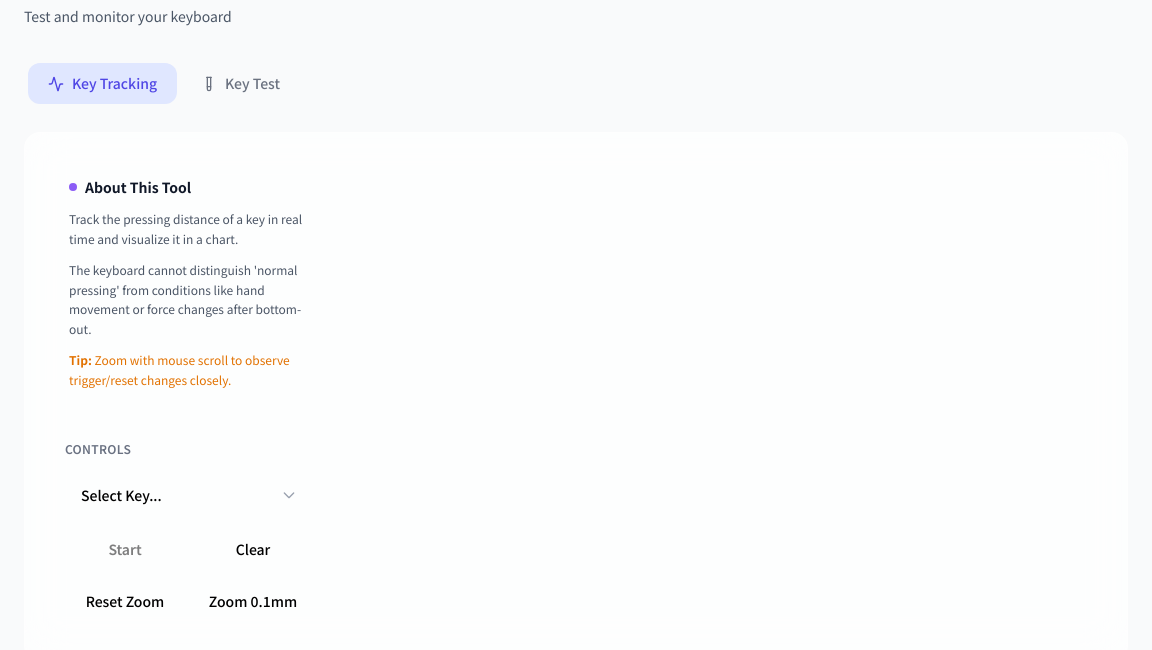
Test: DebugPage › switches between Key Tracking and Key Test
Click the tab "Key Test" at (240, 84), box left=181, top=63, right=300, bottom=104
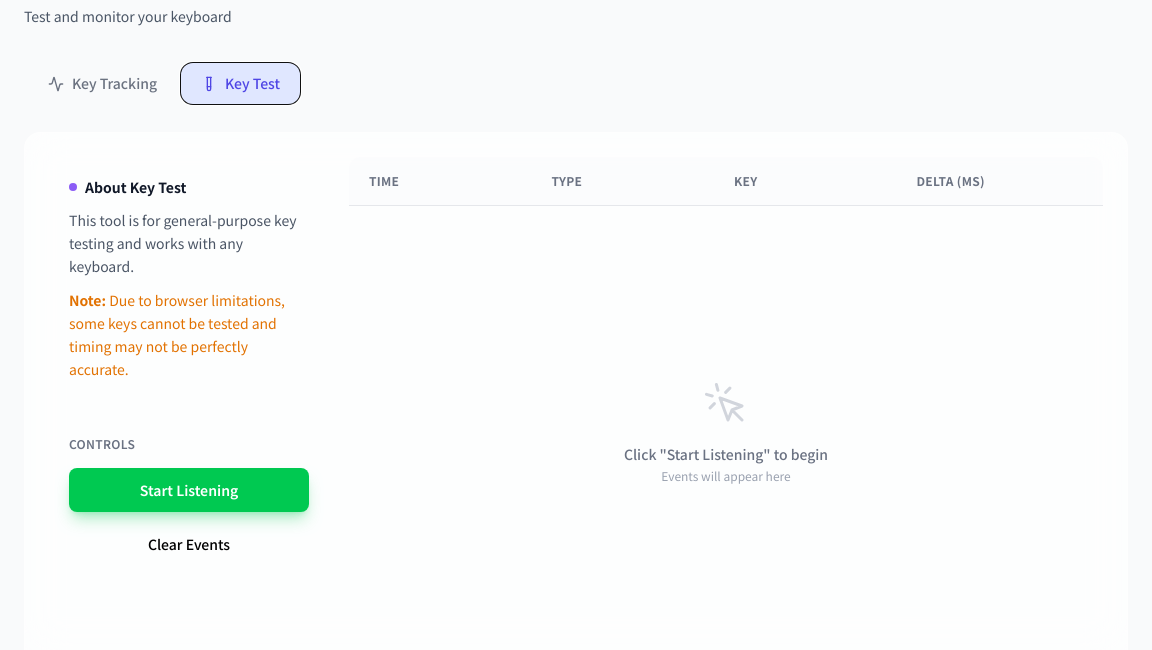
Expected: the panel shows "About Key Test", left=85, top=177, right=186, bottom=197
Expected: the heading "About This Tool" is gone
Click the tab "Key Tracking" at (102, 84), box left=28, top=63, right=177, bottom=104
(page scrolled)
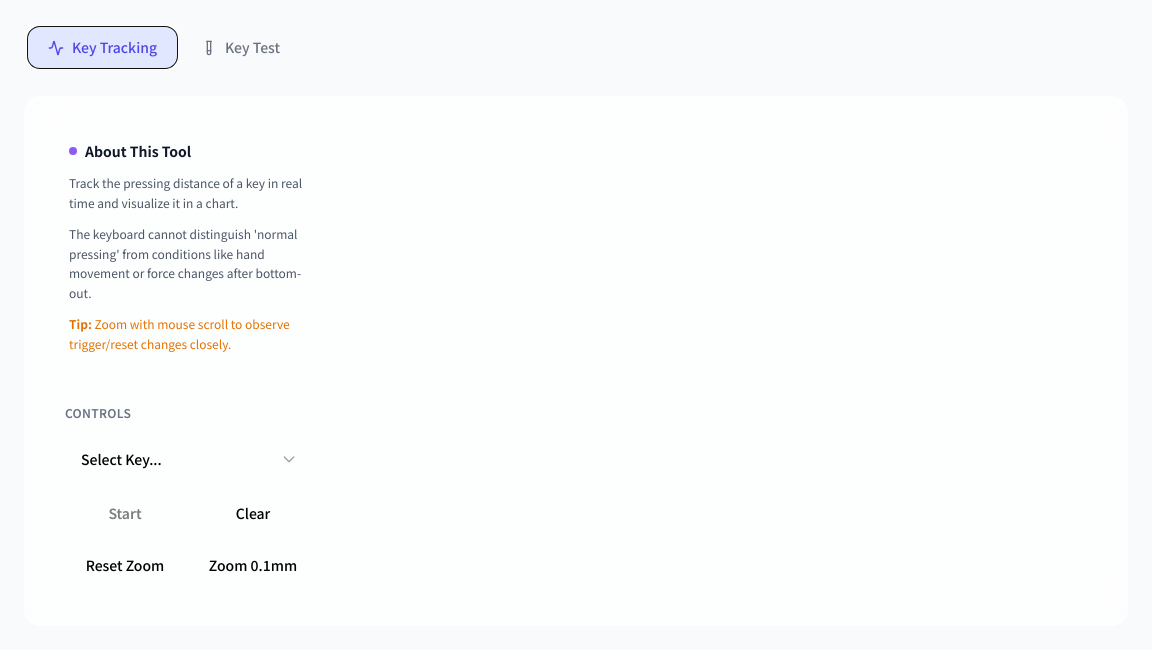
Expected: the panel shows "About This Tool", left=85, top=141, right=191, bottom=161
